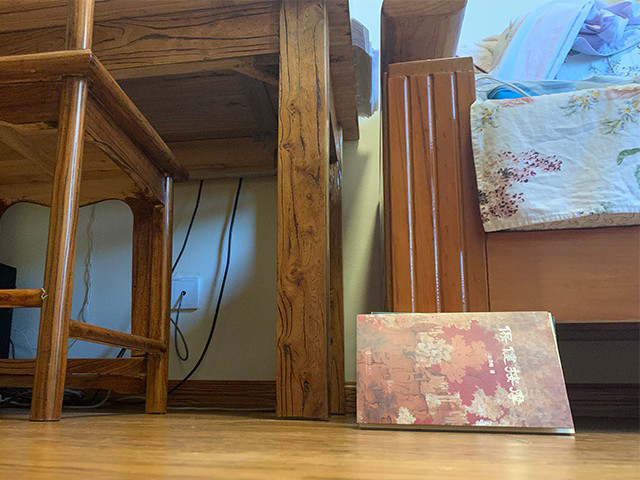book: (355, 310, 575, 433)
sofa: (377, 1, 640, 320)
stool: (1, 1, 187, 420)
table: (1, 1, 359, 420)
wire: (17, 206, 278, 415)
